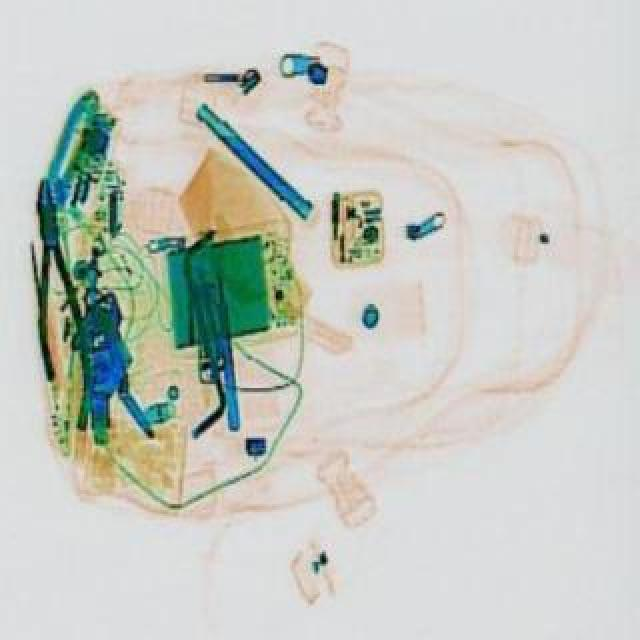wrench: (22, 184, 102, 440)
